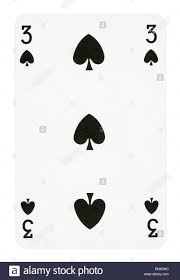three of spades: (15, 14, 167, 247)
